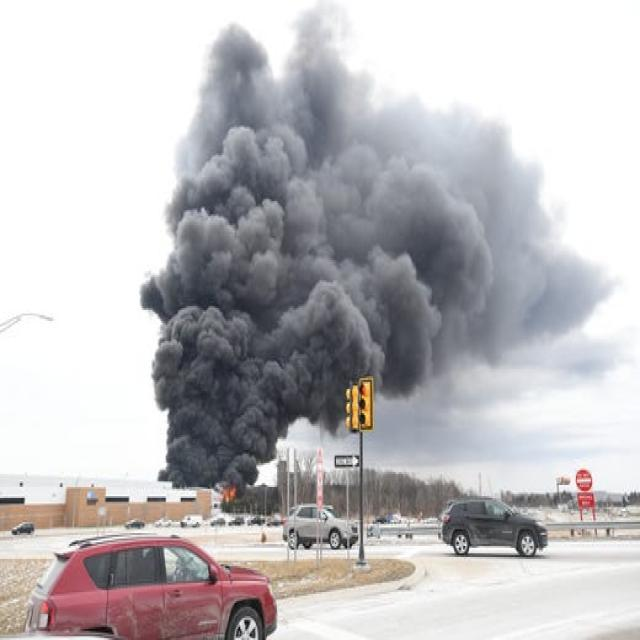Smoke: (139, 0, 626, 499)
